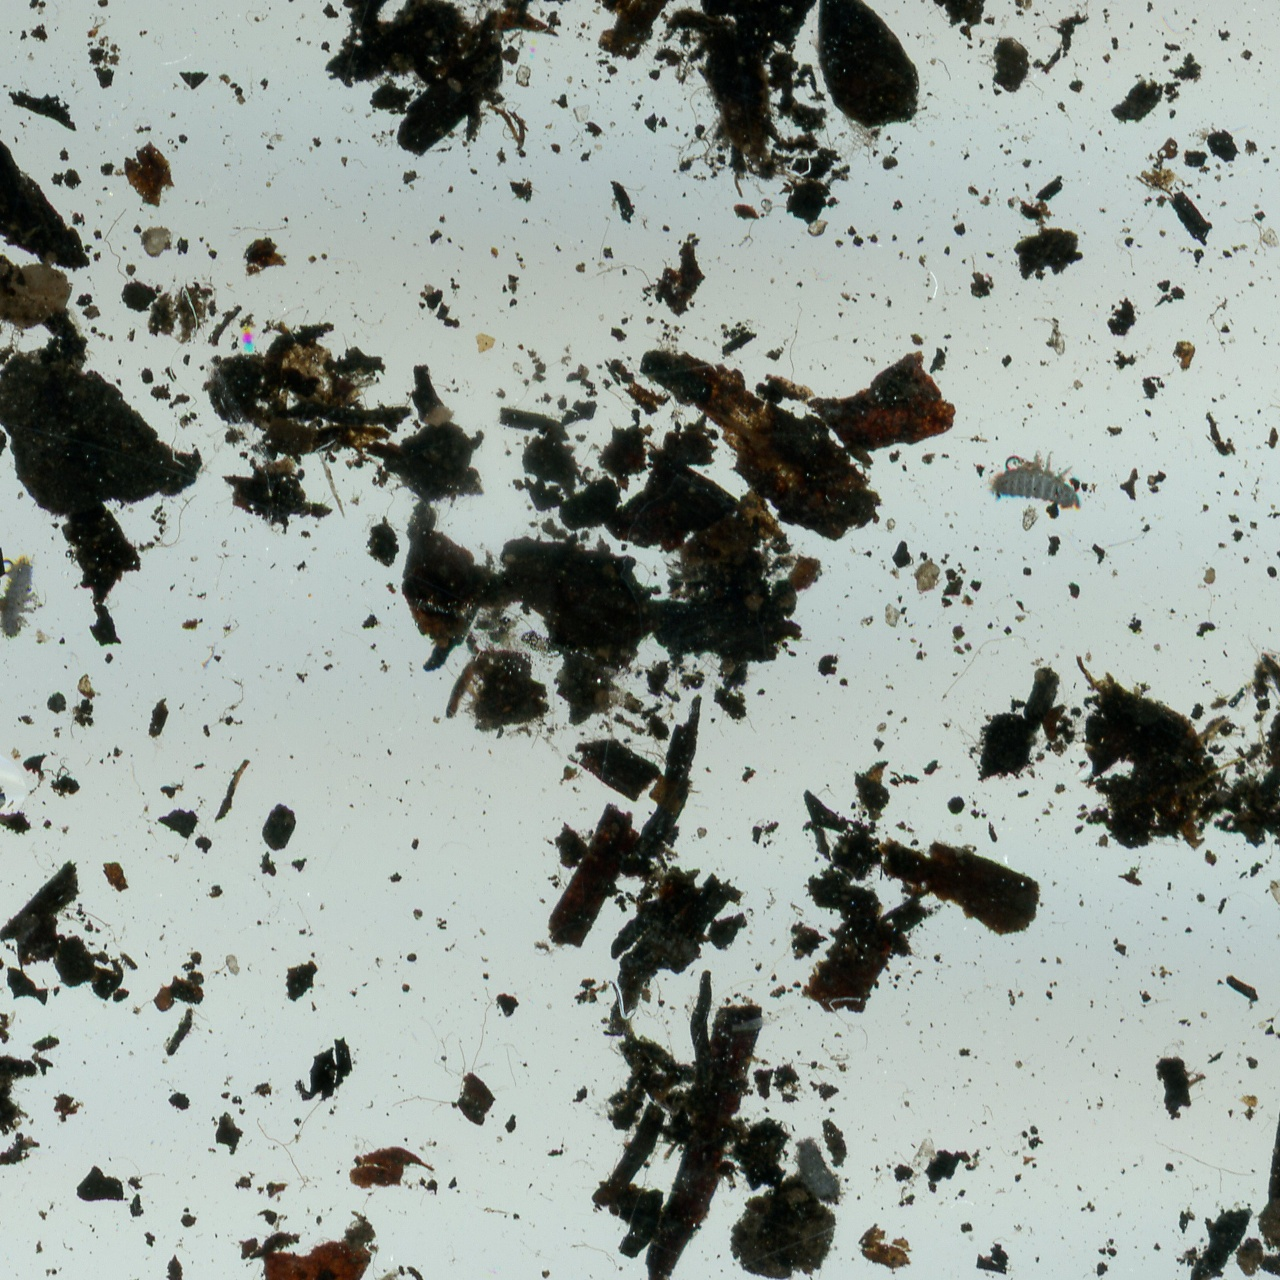arthropod: (782, 1128, 853, 1220), (987, 449, 1084, 513), (0, 546, 50, 648)
